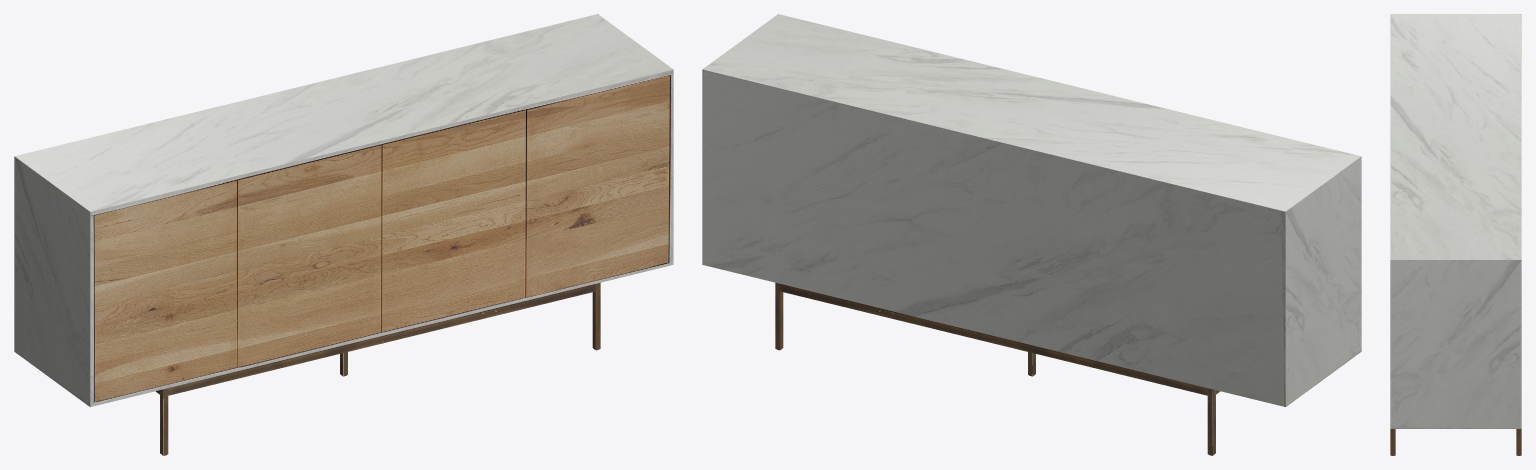
File: sideboard1.dae
3 views of the same model, side by side, from view 1: azimuth 30°, elevation 25°; view 2: azimuth 150°, elevation 25°; view 3: azimuth 270°, elevation 25° (orthographic). The views are drawn at different scales.
Parts seen in each view (by area): view 1: group_1 (×2), Component_2; view 2: group_1, Component_2; view 3: group_1, Component_1 (×2).
Boxes of the visible parts, x1=… form: group_1 (×2): x1=14, y1=14, x2=673, y2=406; Component_2: x1=168, y1=284, x2=595, y2=395; group_1: x1=702, y1=14, x2=1361, y2=406; Component_2: x1=780, y1=284, x2=1207, y2=395; group_1: x1=1390, y1=14, x2=1521, y2=428; Component_1 (×2): x1=1390, y1=429, x2=1521, y2=455.
Bounding box in the file's own units: 78.74 × 17.72 × 33.86.
3 materials, 2 textured.
